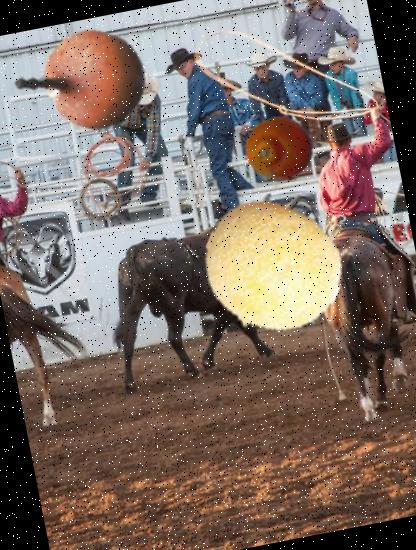Cantaloupe: (190, 186, 354, 350)
Granadilla: (10, 10, 158, 159)
Tangelo: (240, 109, 321, 190)
